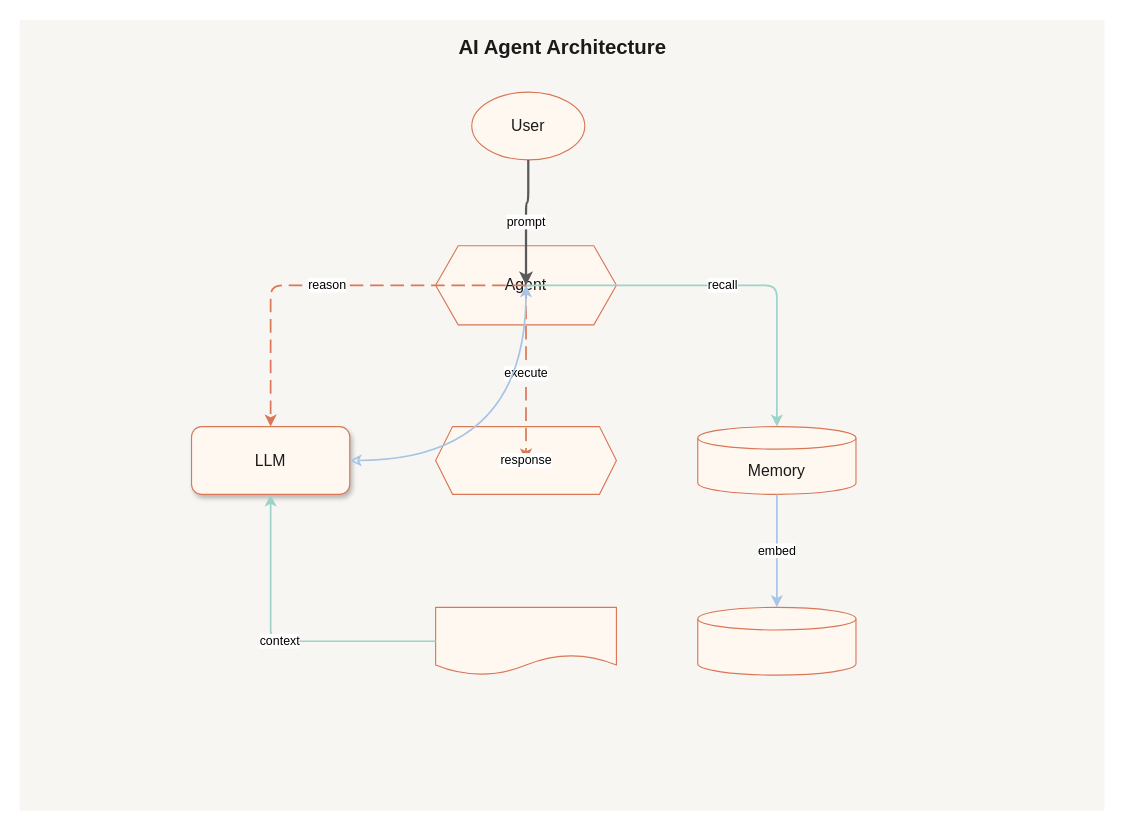
Some shapes in this 1123 by 829 pixel diagram are drawn without their labels. The shapes that lost their labels are listed below. From the top down, each one's centre as x and y in pixels, then its label:
the point at 525,640: Knowledge
the point at 776,640: Vector DB
